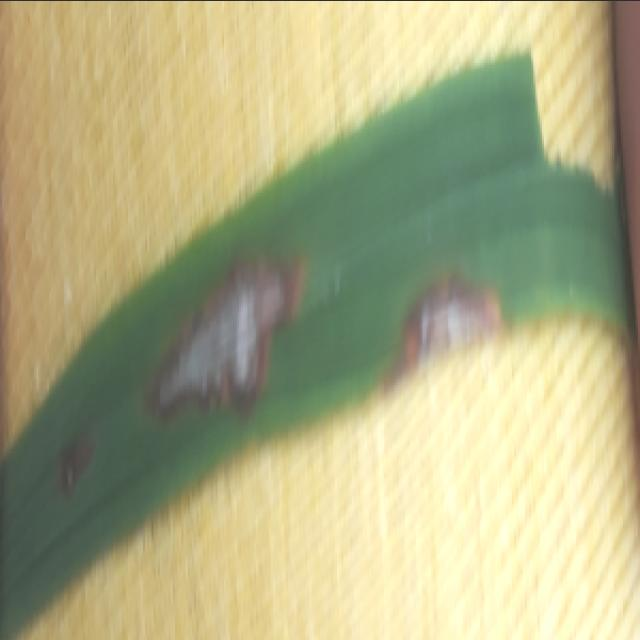Brown_Spot: (161, 249, 313, 417)
